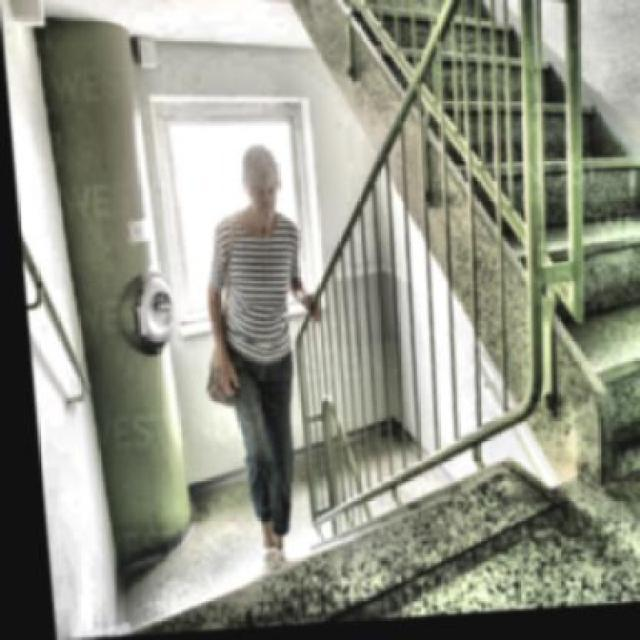stair: (264, 0, 638, 489)
